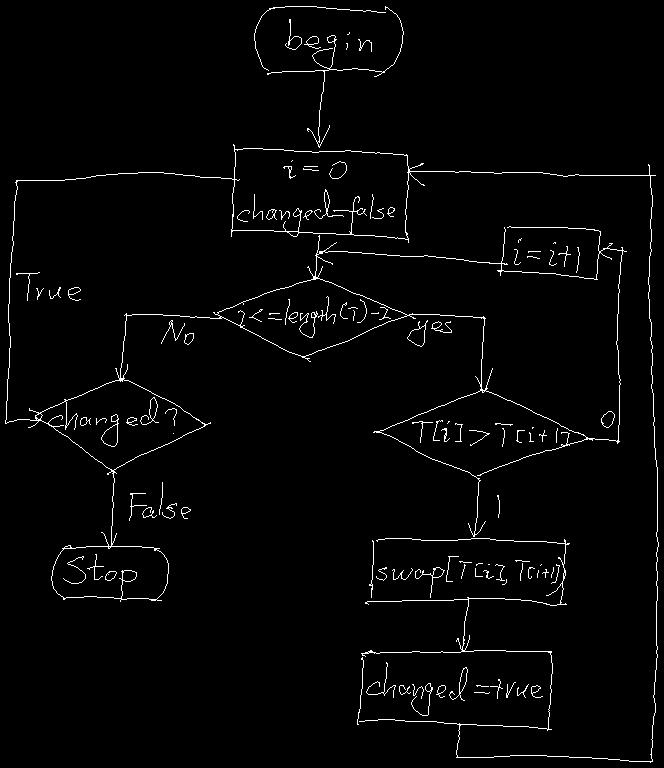arrow: (407, 163, 658, 762), (5, 172, 239, 427), (586, 243, 626, 443), (115, 313, 221, 381), (408, 314, 492, 392), (315, 242, 507, 264), (307, 70, 329, 147), (101, 470, 116, 548), (468, 478, 485, 536), (456, 597, 469, 651), (307, 235, 322, 279)
decision: (373, 388, 592, 480), (213, 276, 415, 361), (35, 378, 210, 474)
process: (231, 144, 408, 242), (357, 650, 552, 730), (365, 538, 569, 605), (497, 226, 600, 279)
terminator: (254, 6, 403, 76), (51, 545, 168, 600)
text: (237, 160, 394, 236), (366, 662, 542, 715), (376, 556, 565, 597), (48, 397, 176, 446), (238, 296, 390, 337), (285, 19, 371, 68), (412, 420, 569, 446), (63, 554, 136, 601), (129, 482, 190, 520), (514, 238, 579, 272), (16, 272, 80, 300), (407, 320, 451, 346), (161, 320, 193, 344), (601, 411, 614, 427), (497, 495, 500, 517)
